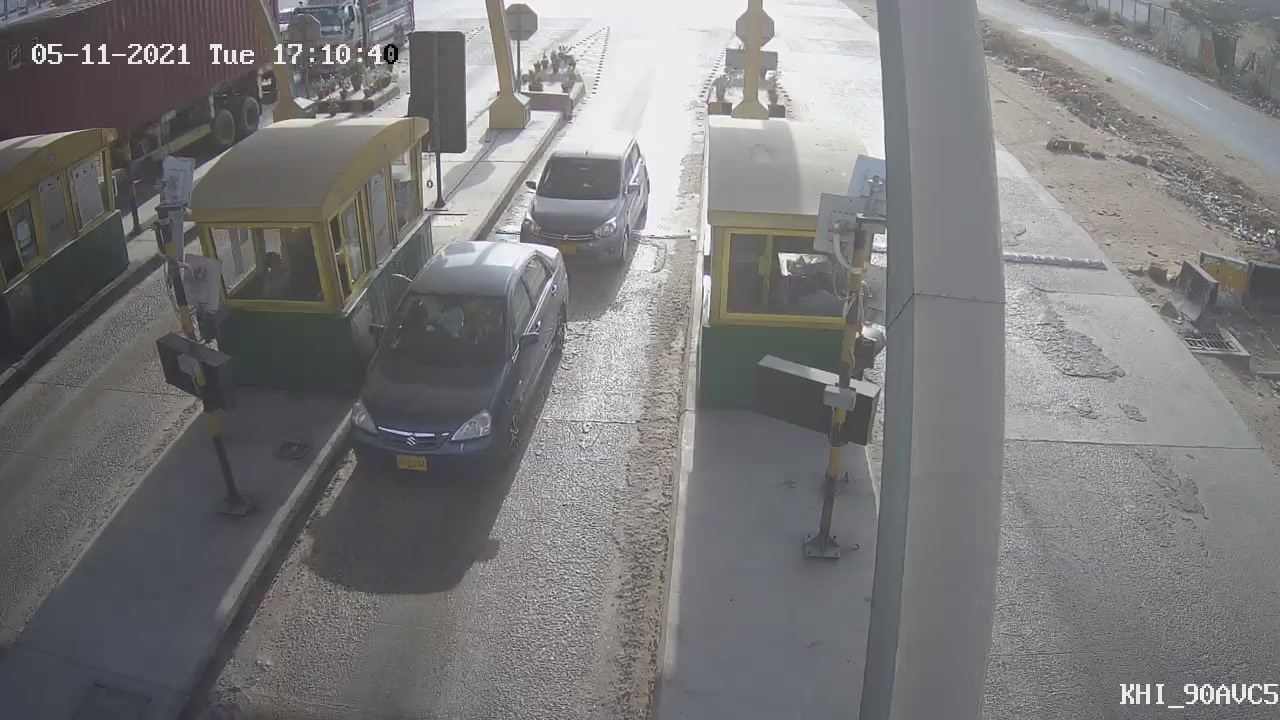F1: (326, 226, 589, 500), (505, 121, 666, 285)
